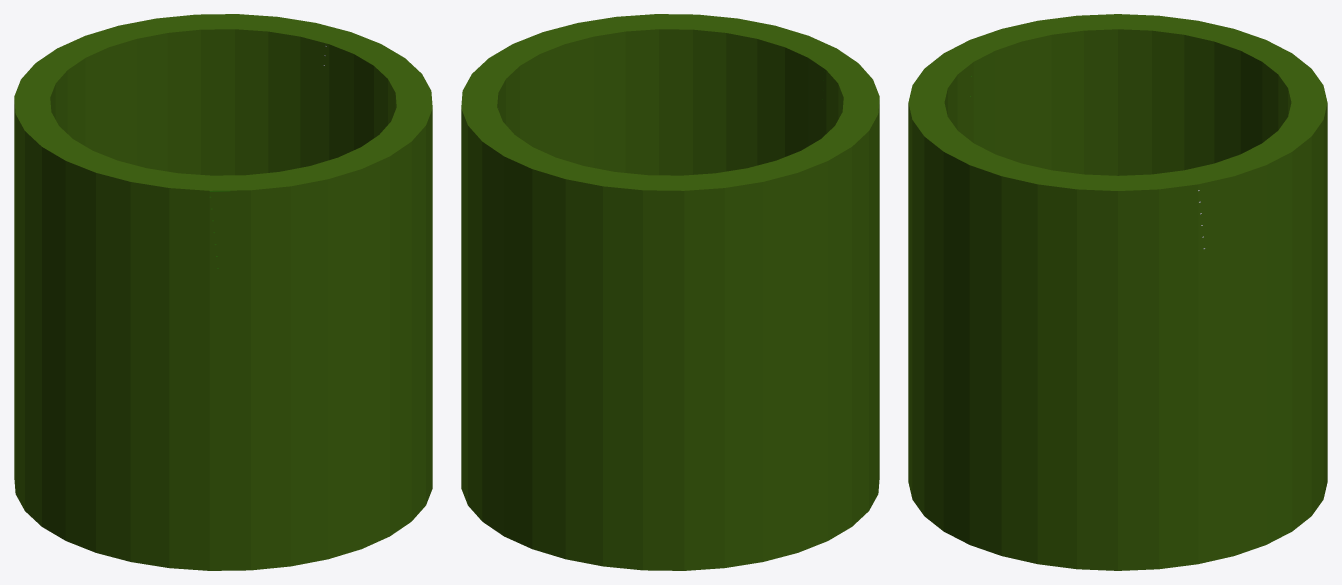
The model's file is basket.fbx.
The picture shows the model from 3 angles, left to right: view 1: azimuth 30°, elevation 25°; view 2: azimuth 150°, elevation 25°; view 3: azimuth 270°, elevation 25°; orthographic projection.
Visible parts, largest first — view 1: Цилиндр; view 2: Цилиндр; view 3: Цилиндр.
Boxes of the visible parts, bbox=[...] form: Цилиндр: bbox=[14, 14, 432, 570]; Цилиндр: bbox=[461, 14, 879, 570]; Цилиндр: bbox=[908, 14, 1327, 570].
Bounding box in the file's own units: 371 × 371 × 371.
2 materials, 2 textured.
